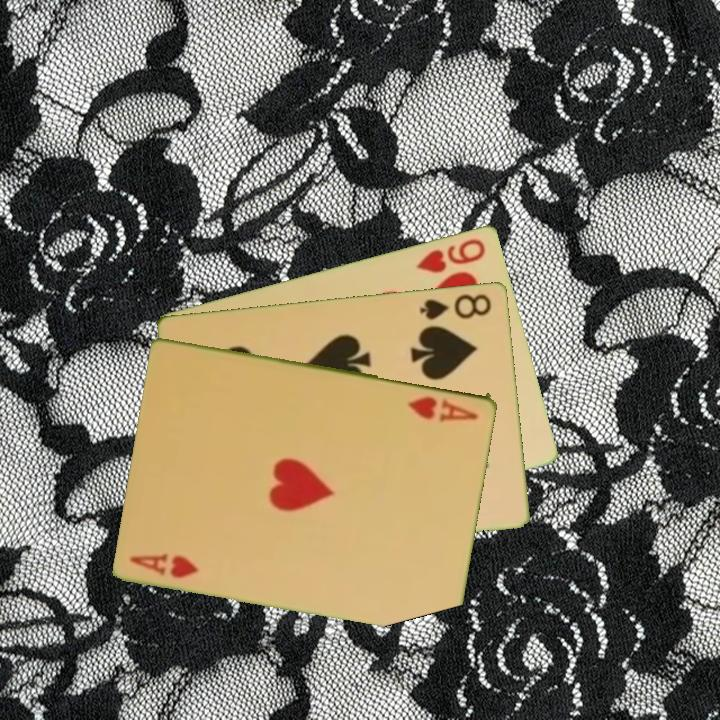8s: (417, 290, 495, 322)
9h: (413, 234, 489, 276)
Ah: (404, 392, 482, 424), (126, 549, 202, 581)
